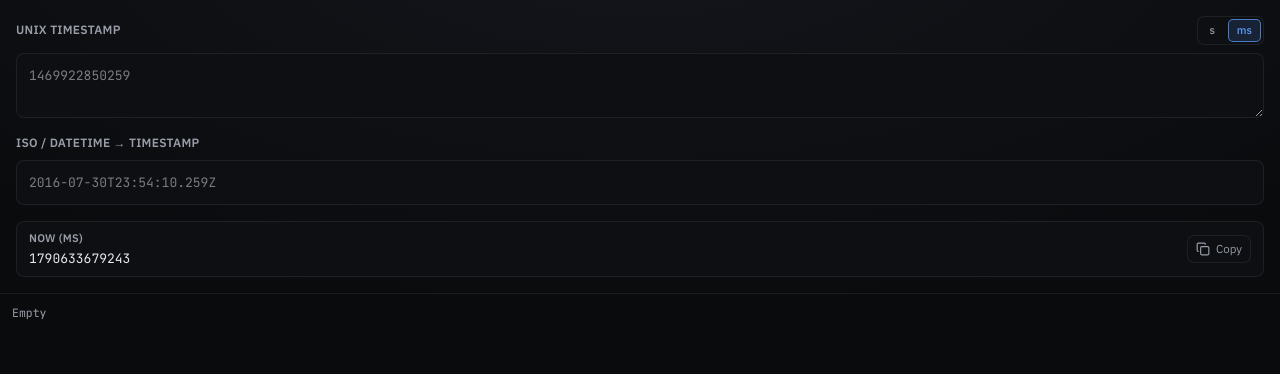
Test case: UnixTimeTool › non-numeric timestamp → a field-scoped explicit error (aria-invalid + text-bad), status 'error', no crash
In the text box labelled "Unix Timestamp": (640,85) x1=16 y1=52 x2=1264 y2=118, type "notanumber"
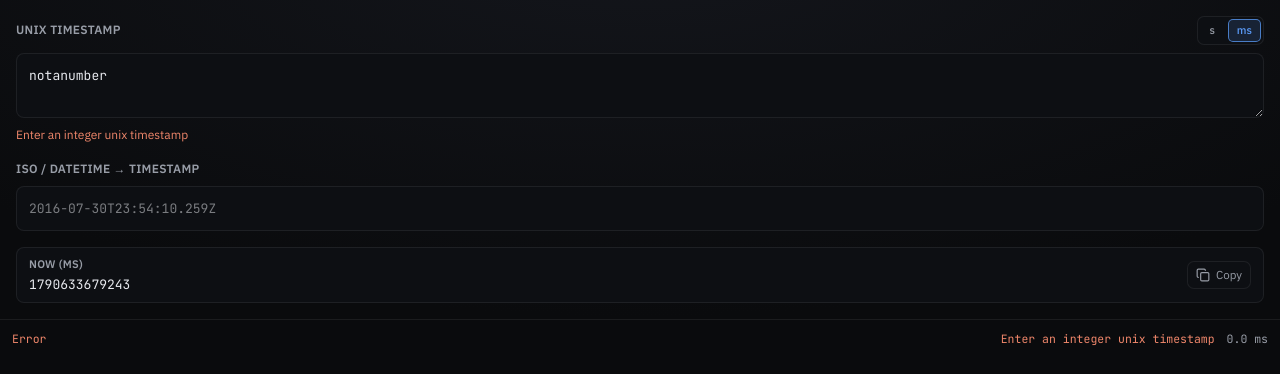
Check: the text with id "unix-time-input-error" is shown, box x1=16 y1=126 x2=188 y2=142
Check: the message "Error Enter an integer unix timestamp 0.0 ms" is shown, box x1=0 y1=319 x2=1279 y2=357
